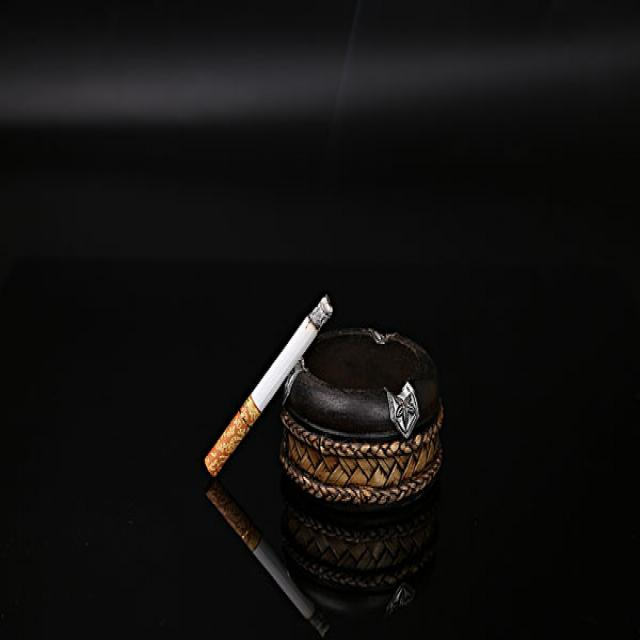smoking: (205, 293, 333, 475), (206, 482, 332, 635)
